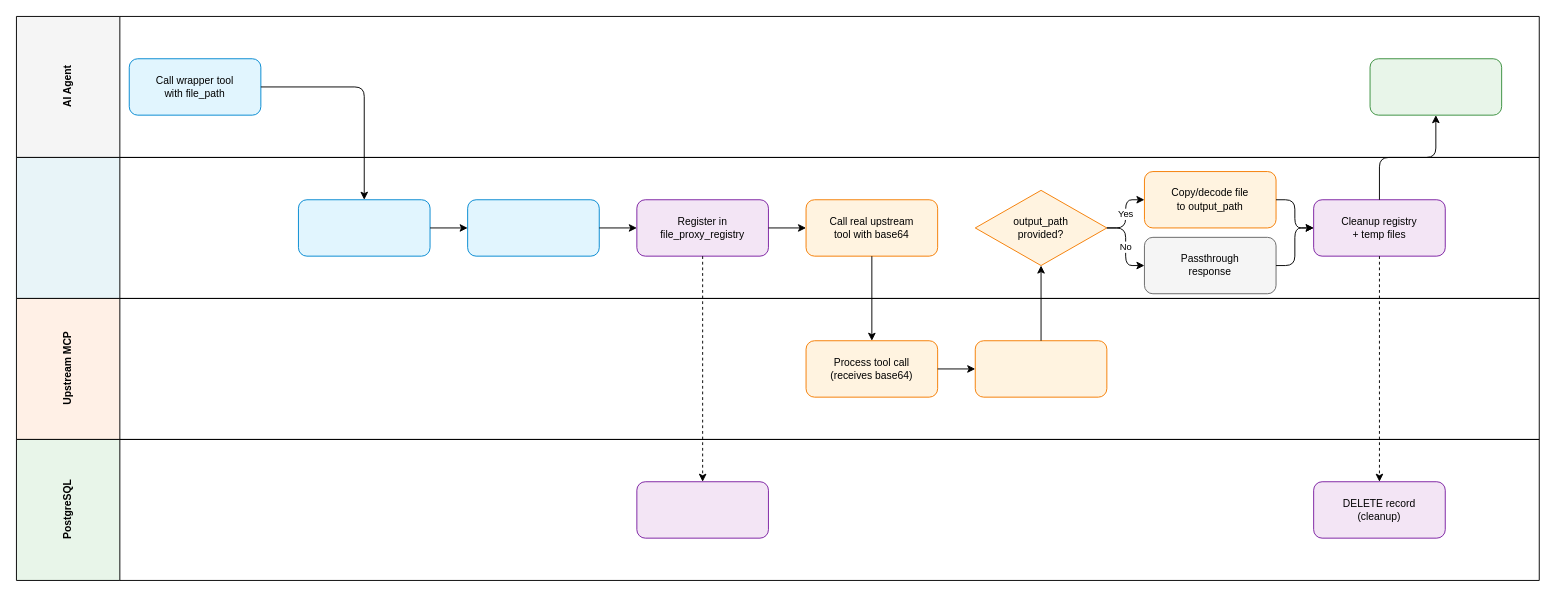
This 1556x597 diagram has some shape labels left out. The shapes that lost their labels are listed below. From the top down, each one's box as (x1, y1, x2, y2) in pixels, then its label:
(1369, 58, 1502, 115): Receive response (no file in context)
(298, 199, 430, 256): Validate file_path + check size
(467, 199, 599, 256): Read file + encode base64
(16, 157, 1539, 298): Orchestrator
(974, 340, 1107, 397): Return response (may contain file)
(636, 481, 768, 538): file_proxy_registry INSERT record
